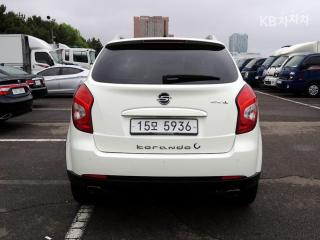1: (137, 119, 143, 132)
3: (177, 121, 185, 131)
5: (143, 120, 151, 131), (162, 120, 170, 131)
6: (185, 120, 194, 132)
9: (171, 120, 178, 132)
plate: (122, 116, 205, 138)
모: (151, 121, 158, 131)
